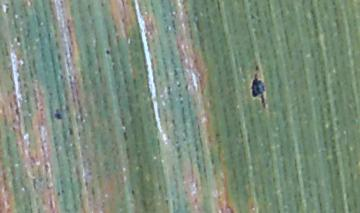tarspot: (250, 74, 266, 109), (52, 108, 63, 122), (103, 49, 111, 55), (254, 65, 260, 71)
